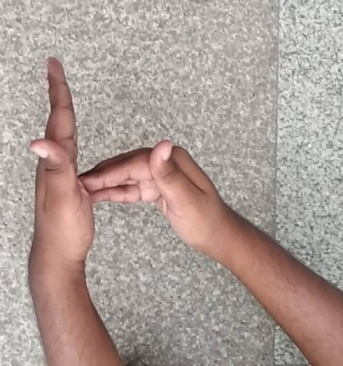ga: (28, 56, 218, 277)
